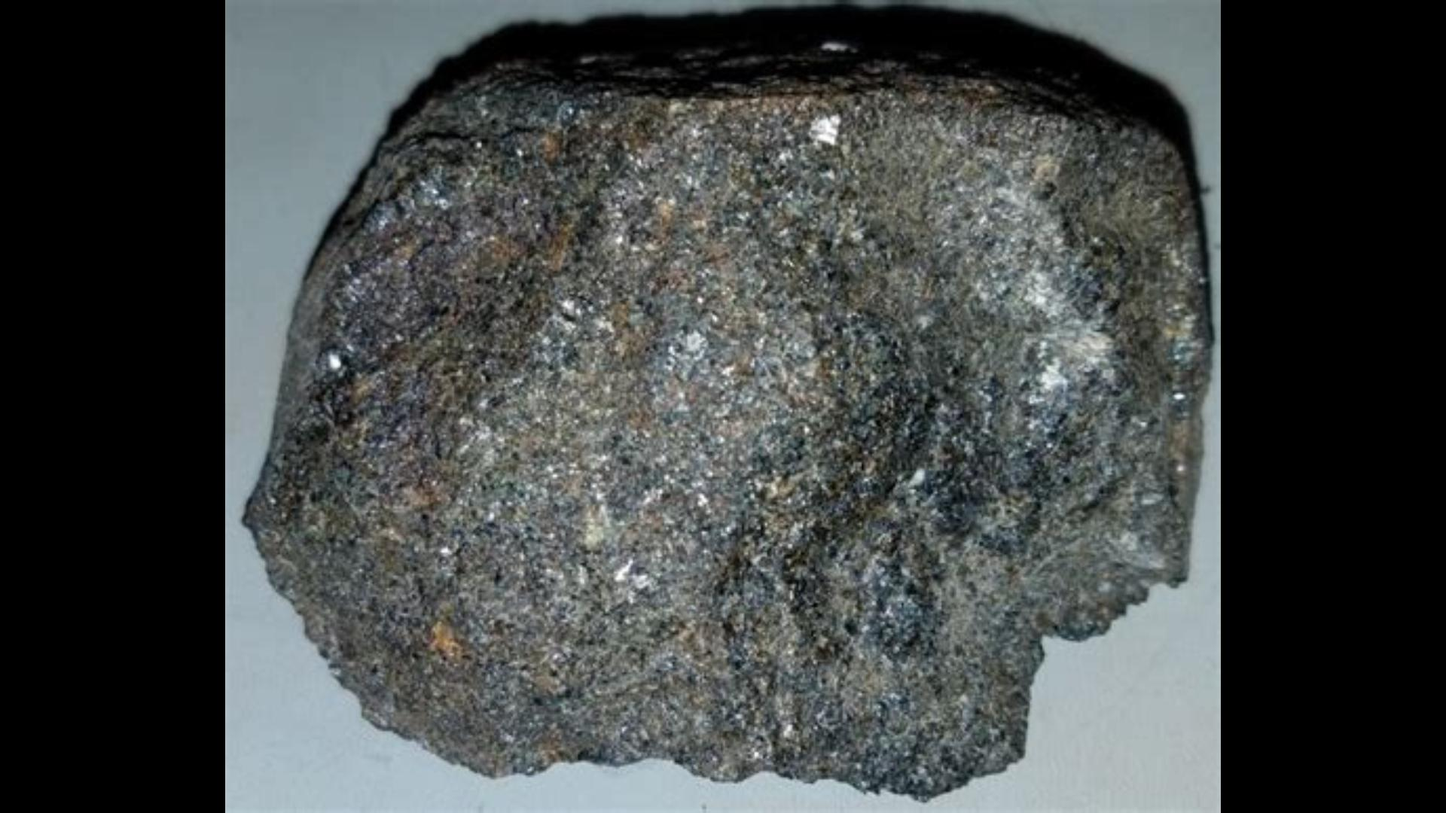rock: (248, 34, 1205, 792)
